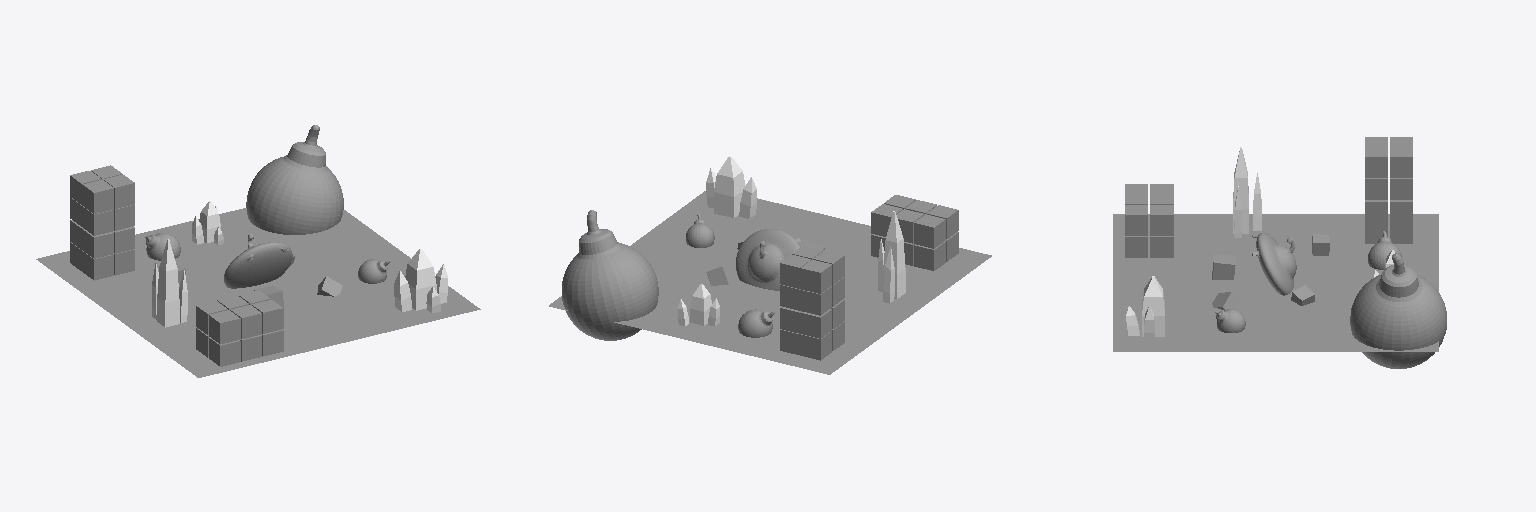
3 renders of one model, left to right at view 1: azimuth 30°, elevation 25°; view 2: azimuth 150°, elevation 25°; view 3: azimuth 270°, elevation 25°, orthographic.
Parts seen in each view (by area): view 1: Plane, Sphere, Cube.033_Cube.034, Cube, Cube.035_Cube.036, Cube.034_Cube.035, Cube.012, Cube.028_Cube.029, Cube.021_Cube.022, Cube.011, Cube.014, Cube.029_Cube.030 (+6 smaller); view 2: Plane, Sphere, Cube, Cube.033_Cube.034, Cube.035_Cube.036, Cube.034_Cube.035, Cube.017, Cube.027_Cube.028, Sphere.001, Cube.022_Cube.023, Cube.005, Cube.019_Cube.020 (+6 smaller); view 3: Plane, Sphere, Cube, Cube.035_Cube.036, Cube.033_Cube.034, Cube.015, Cube.026_Cube.027, Cube.025_Cube.026, Cube.014, Sphere.001, Sphere.002, Cube.001 (+3 smaller).
Boxes of the visible parts, x1=… form: Plane: x1=36, y1=208, x2=480, y2=377; Sphere: x1=246, y1=125, x2=343, y2=234; Cube.033_Cube.034: x1=394, y1=249, x2=447, y2=312; Cube: x1=224, y1=234, x2=292, y2=288; Cube.035_Cube.036: x1=152, y1=239, x2=187, y2=327; Cube.034_Cube.035: x1=192, y1=201, x2=223, y2=244; Cube.012: x1=209, y1=310, x2=240, y2=344; Cube.028_Cube.029: x1=82, y1=180, x2=113, y2=213; Cube.021_Cube.022: x1=82, y1=229, x2=113, y2=258; Cube.011: x1=209, y1=337, x2=240, y2=366; Cube.014: x1=252, y1=300, x2=283, y2=333; Cube.029_Cube.030: x1=82, y1=206, x2=113, y2=235; Plane: x1=549, y1=191, x2=991, y2=374; Sphere: x1=562, y1=210, x2=658, y2=340; Cube: x1=736, y1=229, x2=800, y2=290; Cube.033_Cube.034: x1=706, y1=156, x2=756, y2=218; Cube.035_Cube.036: x1=878, y1=211, x2=905, y2=303; Cube.034_Cube.035: x1=678, y1=284, x2=719, y2=325; Cube.017: x1=914, y1=214, x2=945, y2=248; Cube.027_Cube.028: x1=800, y1=260, x2=831, y2=293; Sphere.001: x1=738, y1=309, x2=774, y2=337; Cube.022_Cube.023: x1=800, y1=309, x2=831, y2=338; Cube.005: x1=914, y1=241, x2=945, y2=270; Cube.019_Cube.020: x1=800, y1=331, x2=831, y2=360; Plane: x1=1113, y1=214, x2=1438, y2=351; Sphere: x1=1350, y1=253, x2=1446, y2=368; Cube: x1=1252, y1=233, x2=1296, y2=295; Cube.035_Cube.036: x1=1233, y1=147, x2=1261, y2=237; Cube.033_Cube.034: x1=1126, y1=276, x2=1164, y2=341; Cube.015: x1=1150, y1=205, x2=1173, y2=235; Cube.026_Cube.027: x1=1390, y1=147, x2=1412, y2=177; Cube.025_Cube.026: x1=1365, y1=147, x2=1387, y2=177; Cube.014: x1=1125, y1=205, x2=1147, y2=235; Sphere.001: x1=1368, y1=231, x2=1401, y2=269; Sphere.002: x1=1215, y1=309, x2=1245, y2=332; Cube.001: x1=1212, y1=254, x2=1235, y2=279.
Size of the model in its own units: 27.86 by 11.5 by 28.62.
8 materials, 1 textured.